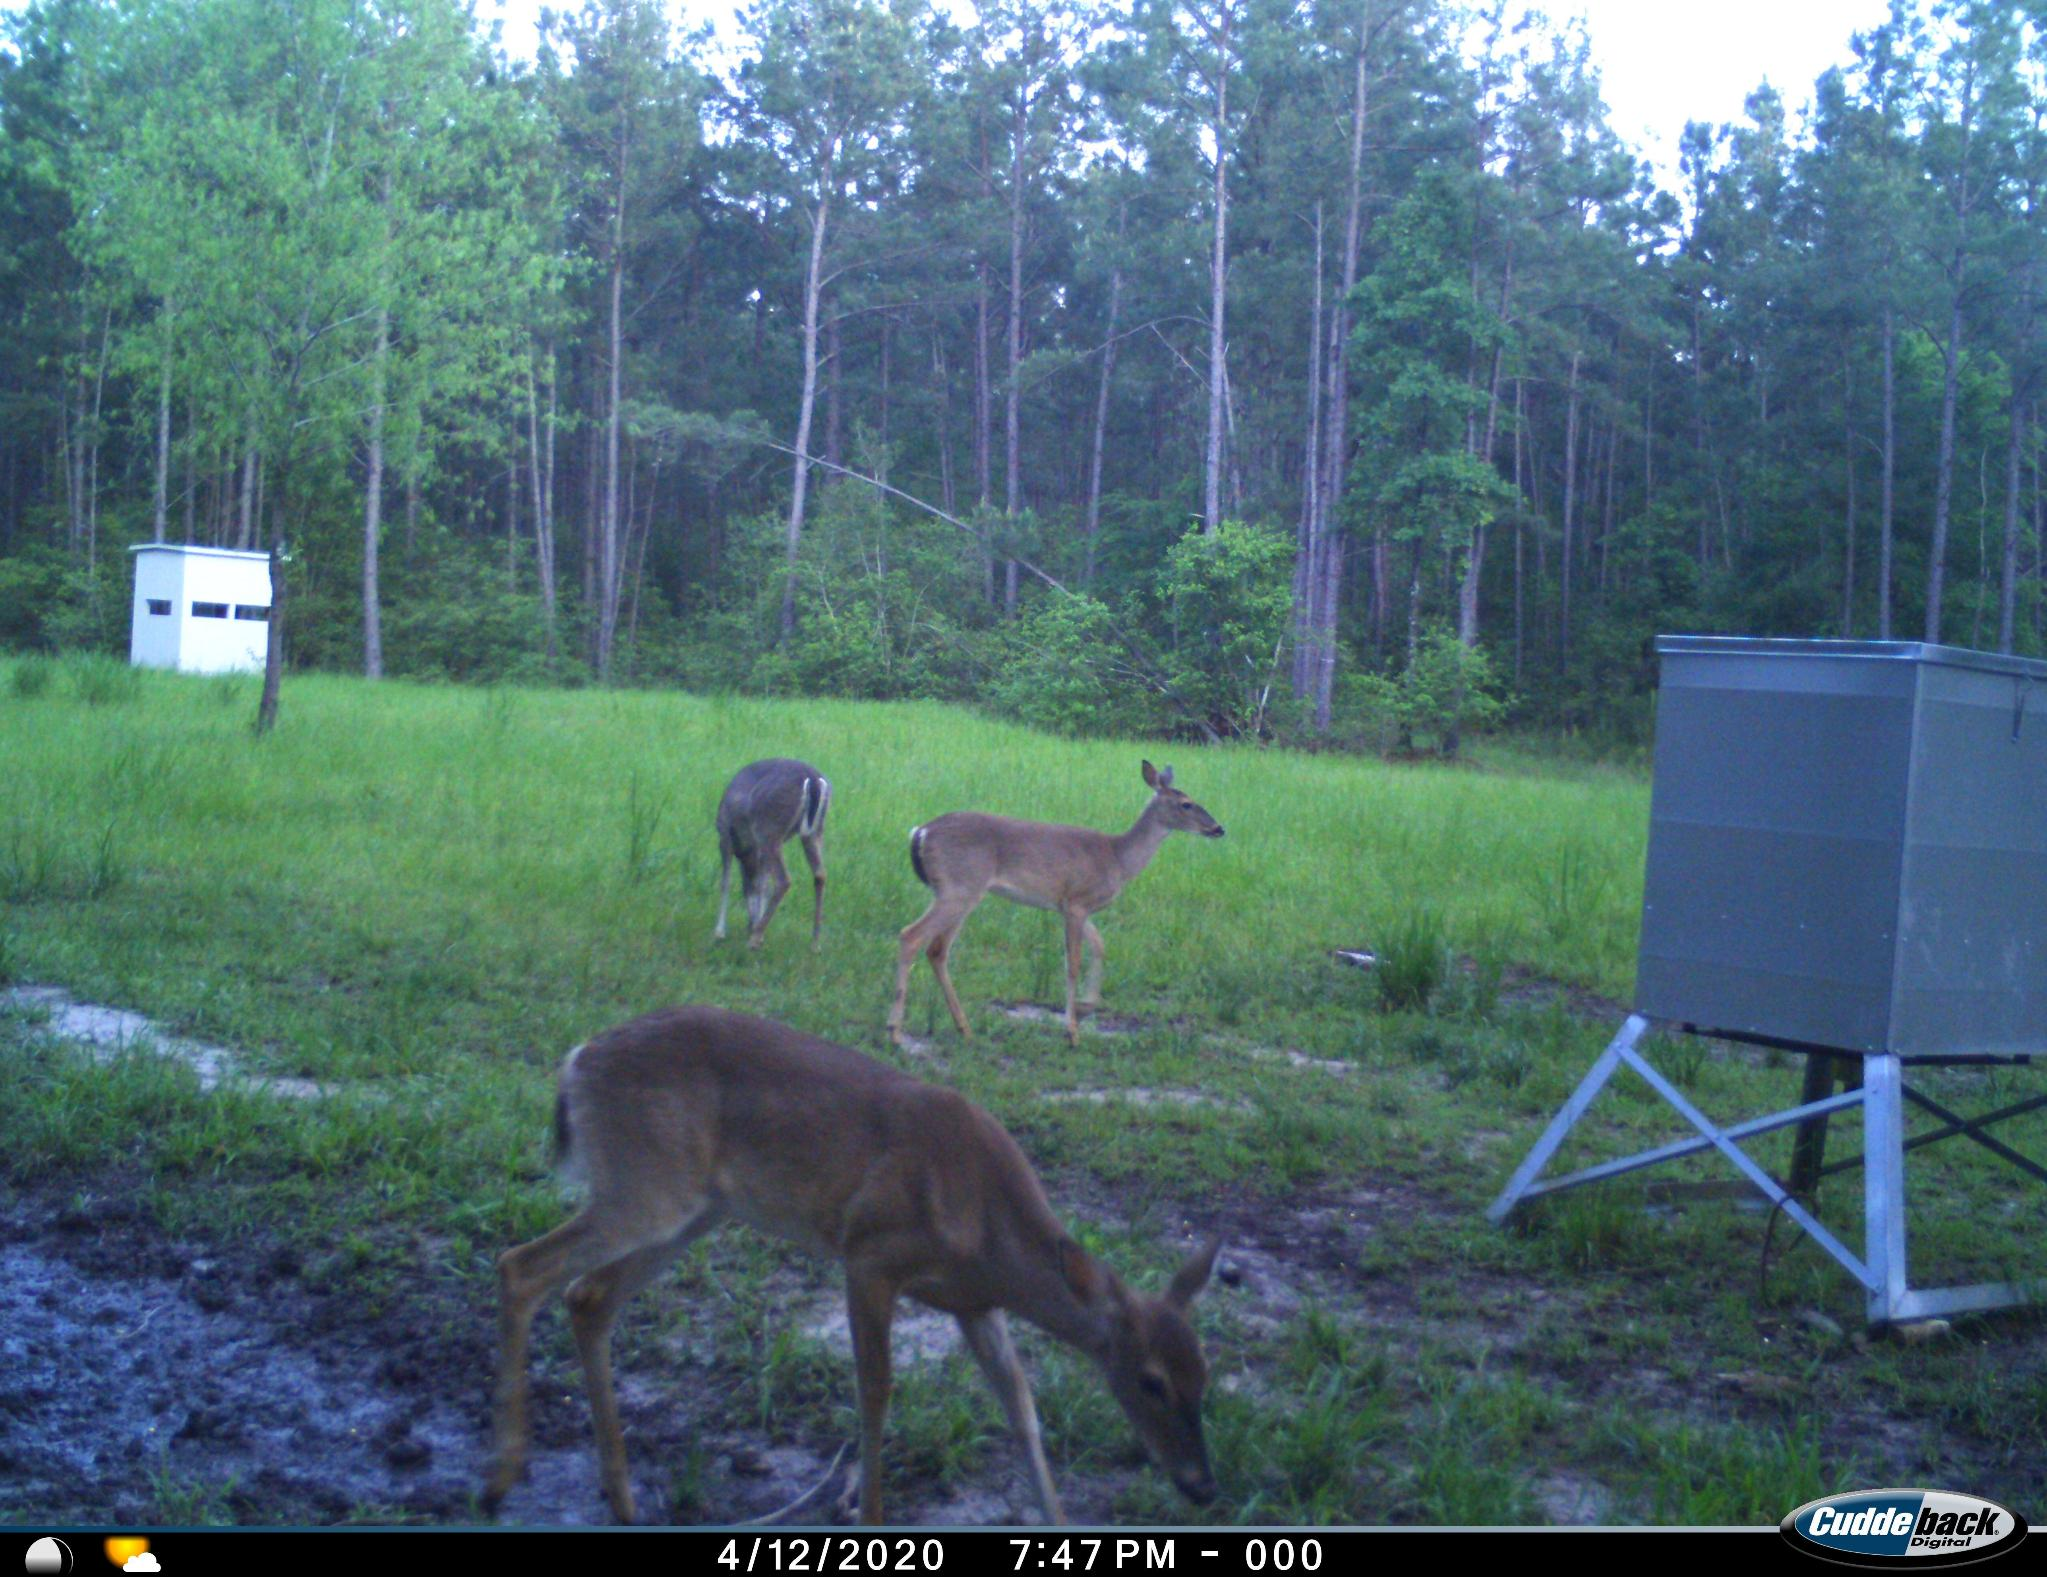Deer: (480, 997, 1262, 1531), (883, 752, 1249, 1062), (704, 754, 855, 967)
